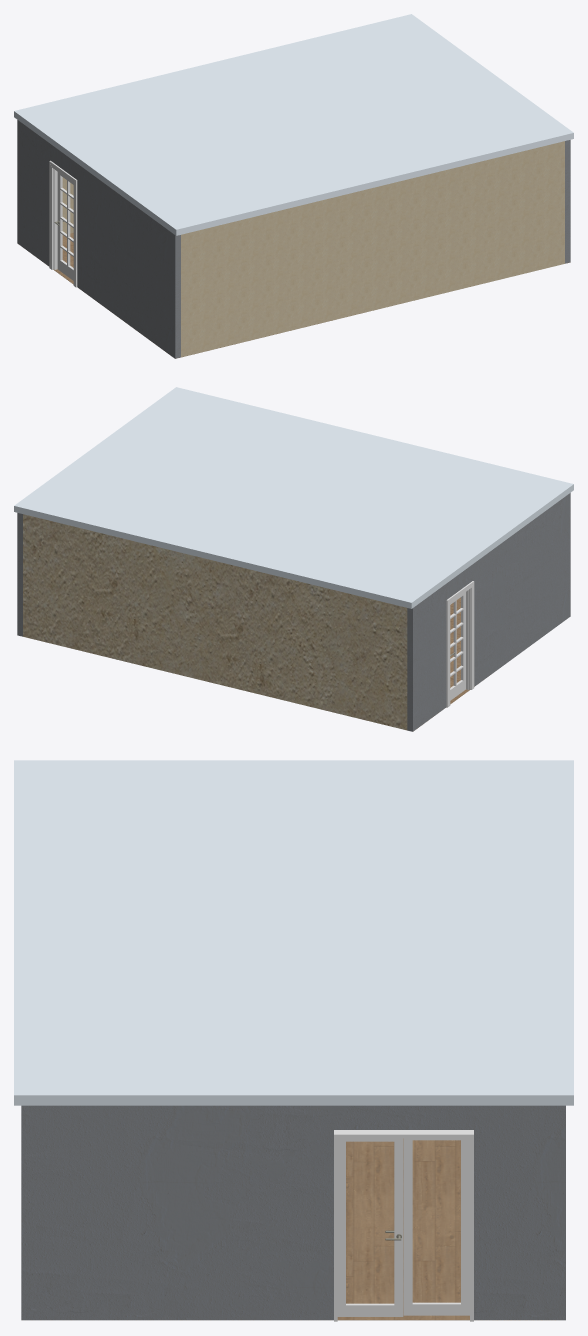
The model's file is home.gltf.
The picture shows the model from 3 angles, top to bottom: view 1: azimuth 30°, elevation 25°; view 2: azimuth 150°, elevation 25°; view 3: azimuth 270°, elevation 25°; orthographic projection. The views are drawn at different scales.
Visible parts, largest first — view 1: Cube, Wall.003, Wall, Block:DOORWIZ-11; view 2: Cube, Wall.001, Wall, Block:DOORWIZ-11, FloorNew; view 3: Cube, Wall, FloorNew, Rectangle044, Rectangle043, Line051.002.
Part boxes in pixels (box(x1,y1,x2,y2)): Cube: box(14, 14, 573, 235); Wall.003: box(181, 141, 564, 357); Wall: box(17, 120, 570, 358); Block:DOORWIZ-11: box(49, 160, 77, 287); Cube: box(14, 387, 573, 608); Wall.001: box(23, 514, 407, 730); Wall: box(17, 493, 570, 731); Block:DOORWIZ-11: box(446, 581, 474, 707); FloorNew: box(413, 597, 484, 731); Cube: box(14, 760, 573, 1105); Wall: box(21, 1105, 565, 1320); FloorNew: box(127, 1138, 555, 1320); Rectangle044: box(337, 1138, 403, 1316); Rectangle043: box(403, 1138, 469, 1315); Line051.002: box(334, 1130, 473, 1321).
Bounding box in the file's own units: 7.99 × 2.48 × 5.58.
